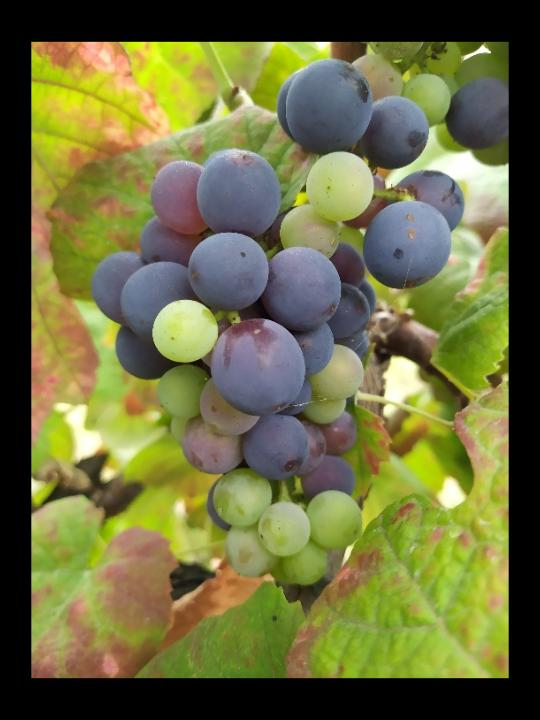grape: (88, 146, 378, 588)
